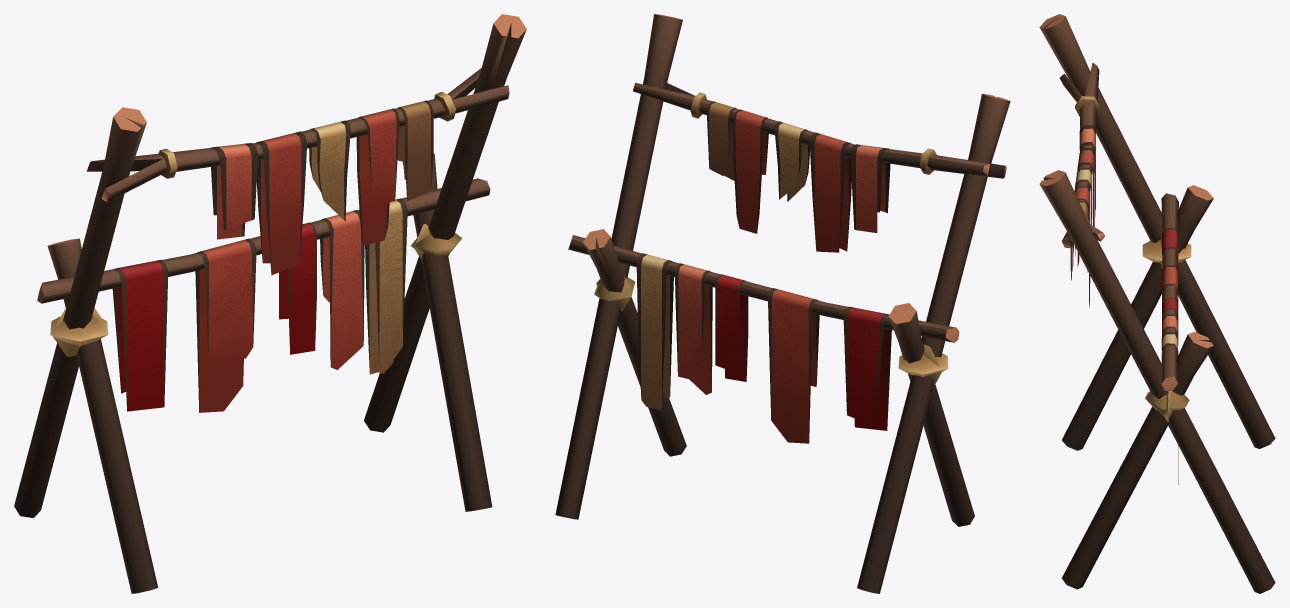
The model's file is Leather_Piece_3A.fbx.
3 renders of one model, left to right at view 1: azimuth 30°, elevation 25°; view 2: azimuth 150°, elevation 25°; view 3: azimuth 270°, elevation 25°, orthographic. The views are drawn at different scales.
Parts seen in each view (by area): view 1: Leather_Piece_3A; view 2: Leather_Piece_3A; view 3: Leather_Piece_3A.
Boxes of the visible parts, bbox=[...] form: Leather_Piece_3A: bbox=[14, 14, 526, 593]; Leather_Piece_3A: bbox=[555, 14, 1010, 593]; Leather_Piece_3A: bbox=[1039, 14, 1275, 593].
Bounding box in the file's own units: 2.25 × 2.4 × 1.22.
